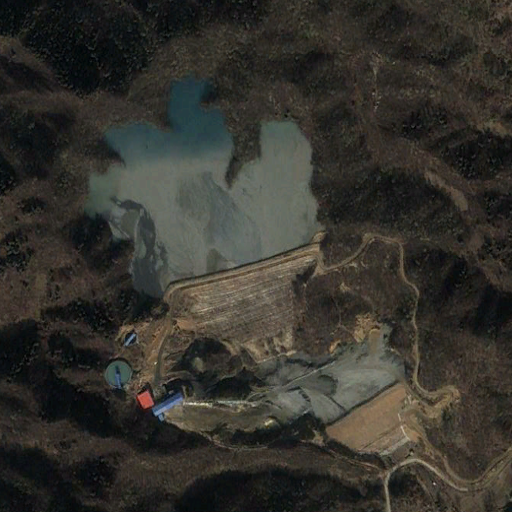tp: (80, 79, 321, 344)
